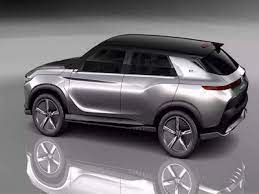XUV 400: (22, 31, 251, 159)
